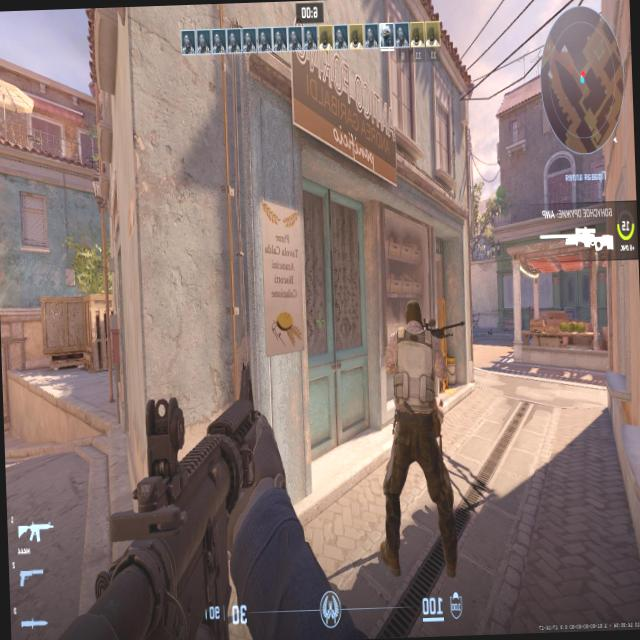T: (382, 303, 438, 563)
T_heat: (408, 306, 421, 324)
